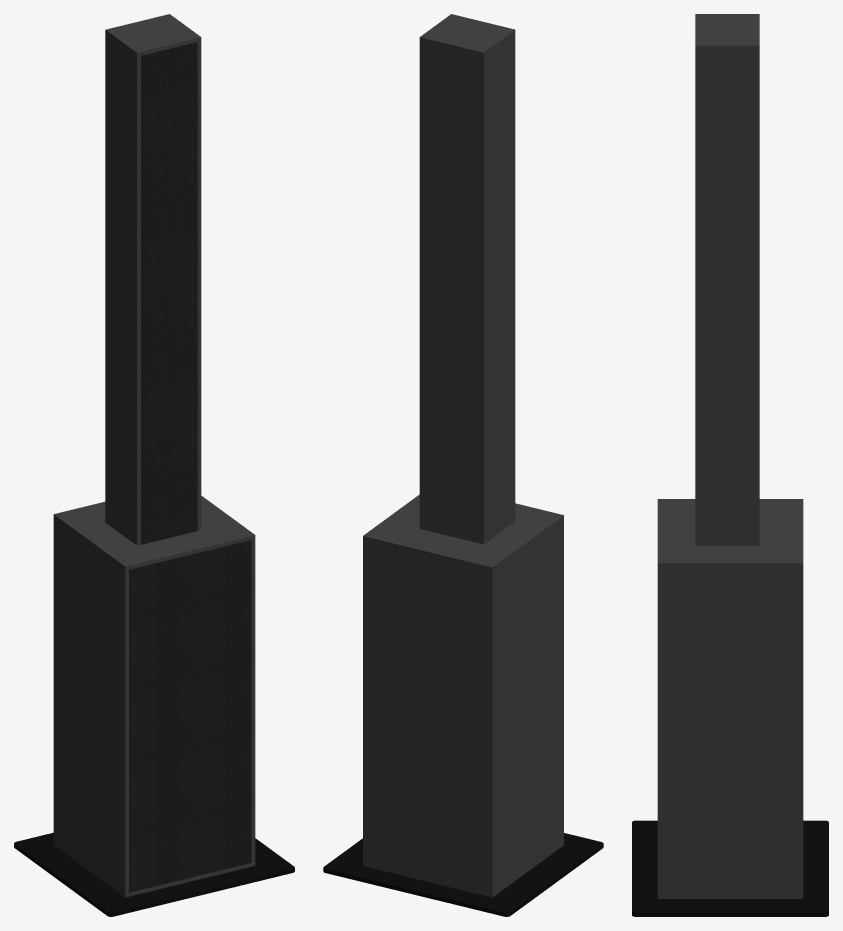
File: banyan-set-line-array-system.glb
The picture shows the model from 3 angles, left to right: view 1: azimuth 30°, elevation 25°; view 2: azimuth 150°, elevation 25°; view 3: azimuth 270°, elevation 25°; orthographic projection.
Parts seen in each view (by area): view 1: canopy-1, Pith-1, Base Plate Banyan-1; view 2: canopy-1, Pith-1, Base Plate Banyan-1; view 3: canopy-1, Pith-1, Base Plate Banyan-1.
Boxes of the visible parts, x1=… form: canopy-1: x1=53, y1=496, x2=255, y2=897; Pith-1: x1=105, y1=14, x2=201, y2=545; Base Plate Banyan-1: x1=14, y1=832, x2=294, y2=916; canopy-1: x1=363, y1=494, x2=563, y2=897; Pith-1: x1=419, y1=14, x2=515, y2=544; Base Plate Banyan-1: x1=323, y1=833, x2=603, y2=916; canopy-1: x1=657, y1=499, x2=803, y2=898; Pith-1: x1=695, y1=14, x2=759, y2=545; Base Plate Banyan-1: x1=632, y1=820, x2=828, y2=916.
Size of the model in its own units: 0.5 by 2.12 by 0.45.
Materials: 4 (2 with a texture image).
